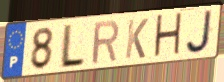8: (30, 26, 56, 72)
H: (152, 10, 184, 61)
J: (184, 8, 215, 56)
K: (123, 17, 150, 61)
L: (57, 22, 87, 70)
R: (91, 18, 121, 67)
